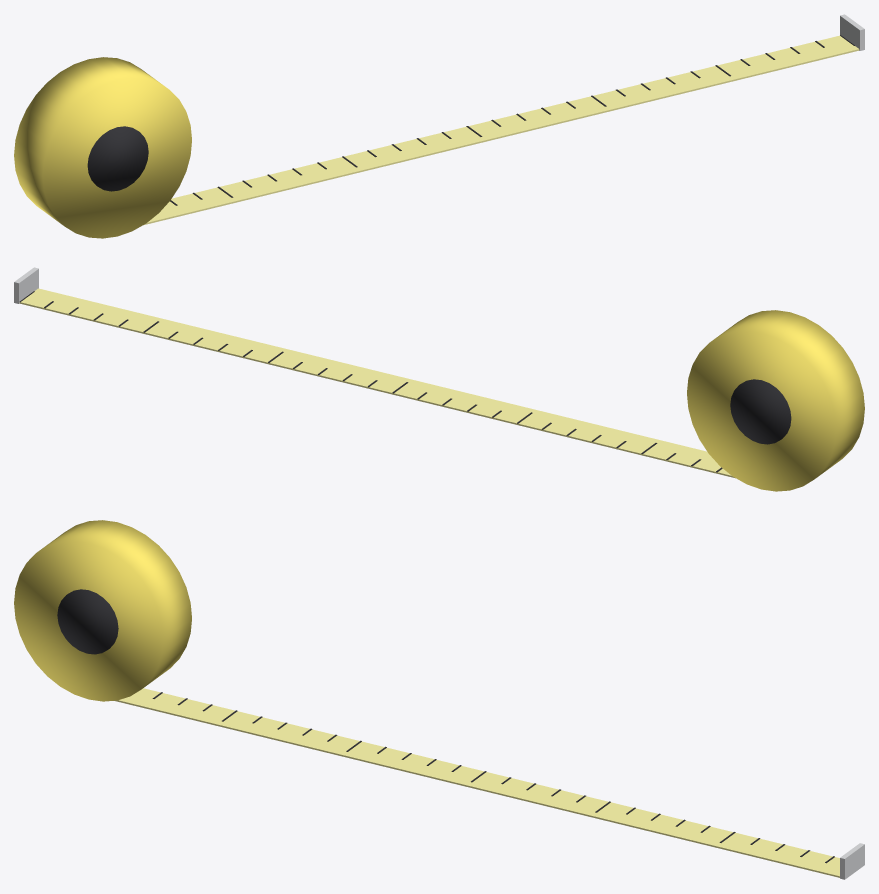
The model's file is tape_measure.glb.
3 views of the same model, one above another, from view 1: azimuth 30°, elevation 25°; view 2: azimuth 150°, elevation 25°; view 3: azimuth 330°, elevation 25° (orthographic).
Parts seen in each view (by area): view 1: tm_case, tm_strip, tm_hub, tm_hook; view 2: tm_case, tm_strip, tm_hub, tm_hook; view 3: tm_case, tm_strip, tm_hub.
Part boxes in pixels (bbox=[...]): tm_case: bbox=[14, 57, 191, 238]; tm_strip: bbox=[143, 35, 859, 225]; tm_hub: bbox=[87, 126, 148, 191]; tm_hook: bbox=[840, 14, 864, 50]; tm_case: bbox=[687, 310, 864, 491]; tm_strip: bbox=[19, 288, 735, 478]; tm_hub: bbox=[730, 379, 791, 444]; tm_hook: bbox=[14, 267, 38, 303]; tm_case: bbox=[14, 520, 191, 701]; tm_strip: bbox=[114, 688, 839, 877]; tm_hub: bbox=[57, 589, 118, 654].
Bounding box in the file's own units: 0.332 × 0.06 × 0.022.
